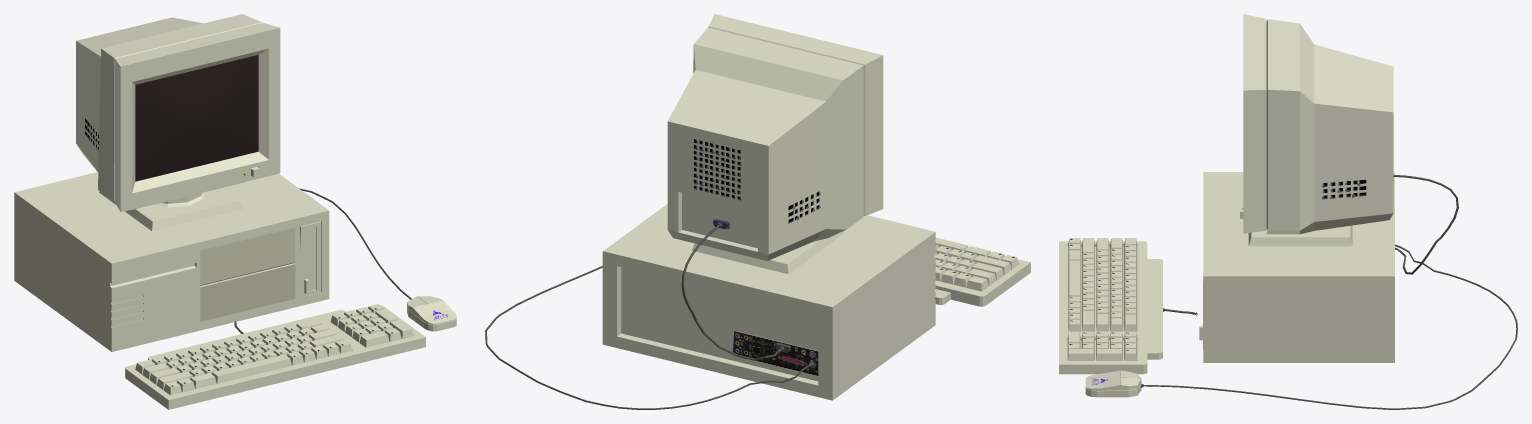
The picture shows the model from 3 angles, left to right: view 1: azimuth 30°, elevation 25°; view 2: azimuth 150°, elevation 25°; view 3: azimuth 270°, elevation 25°; orthographic projection. The views are drawn at different scales.
Parts seen in each view (by area): view 1: Case, Monitor, Keyboard, MonitorScreen, DiskParent, Mouse; view 2: Monitor, Case, Keyboard, MouseCable, MonitorCable; view 3: Monitor, Case, Keyboard, Mouse, MouseCable, MonitorCable.
Boxes of the visible parts, x1,y1,x2,y2 form: Case: (14, 172, 329, 351); Monitor: (76, 14, 280, 231); Keyboard: (125, 304, 425, 409); MonitorScreen: (135, 55, 258, 181); DiskParent: (300, 221, 321, 296); Mouse: (407, 296, 456, 331); Monitor: (667, 14, 883, 274); Case: (602, 204, 935, 400); Keyboard: (933, 237, 1030, 306); MouseCable: (485, 266, 813, 409); MonitorCable: (681, 219, 790, 360); Monitor: (1243, 14, 1393, 246); Case: (1203, 172, 1394, 362); Keyboard: (1059, 238, 1162, 374); Mouse: (1085, 370, 1141, 397); MouseCable: (1141, 244, 1517, 409); MonitorCable: (1393, 175, 1458, 274).
Bounding box in the file's own units: 0.5484 × 0.4123 × 0.6627.
